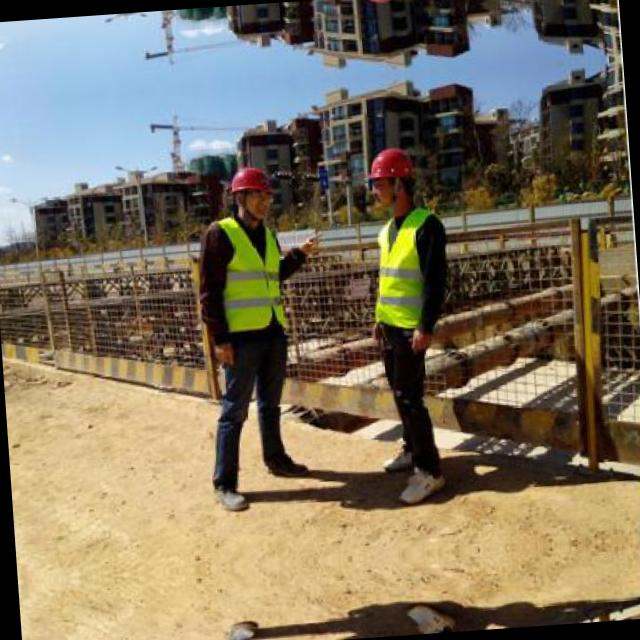helmet: (358, 136, 422, 217), (222, 157, 280, 224), (348, 0, 409, 12)
